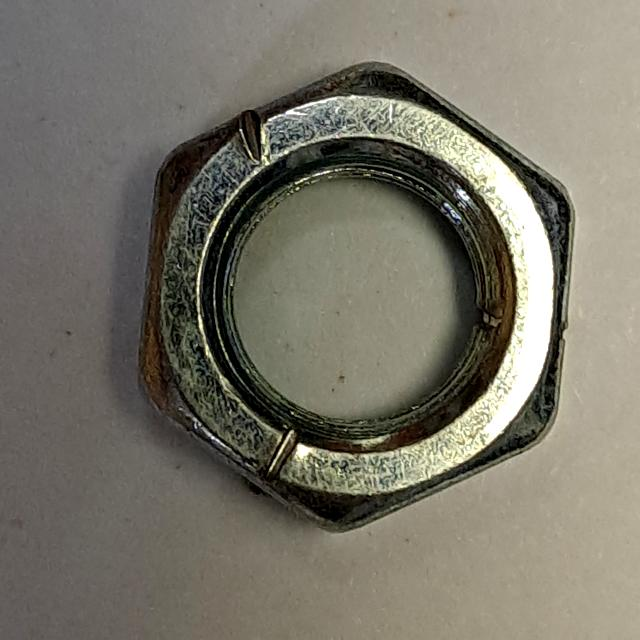Scratches: (124, 51, 597, 553)
